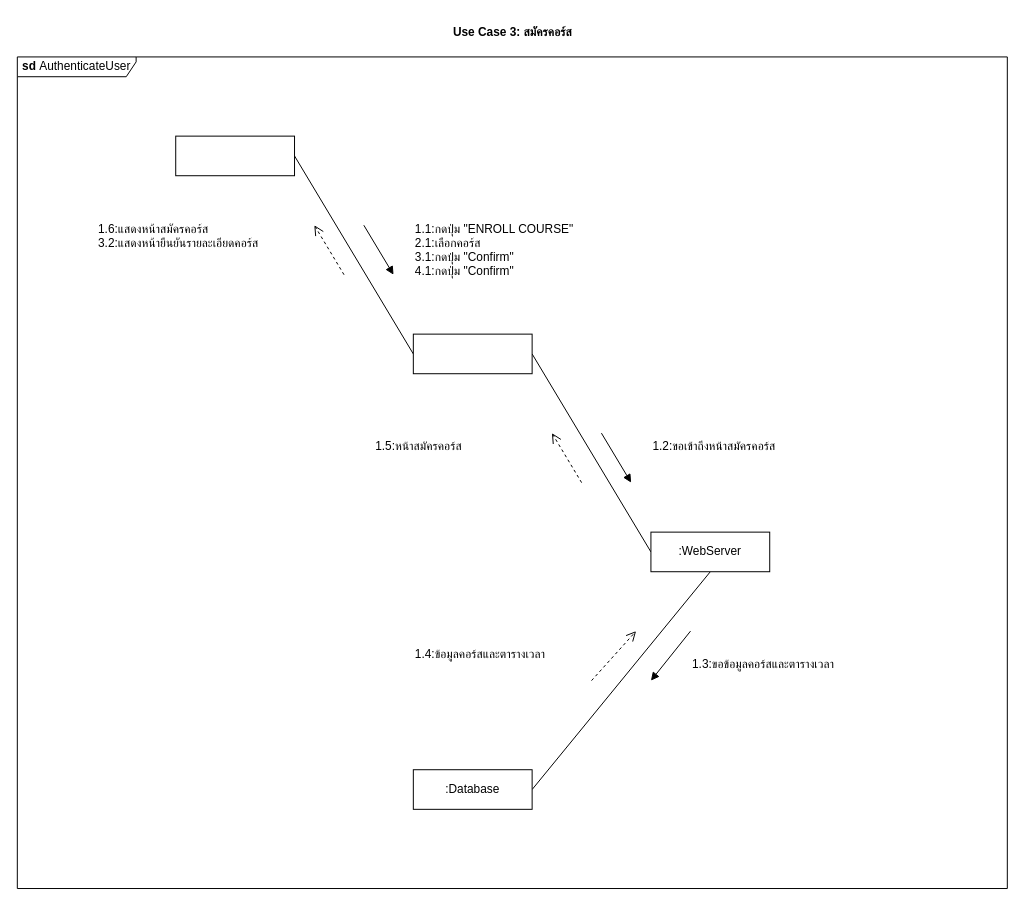
The diagram is 1025 pixels wide and 906 high, and some of its shapes have lost their labels. Each missing label, with the centre of its shape:
:WebBrowser: point 472,353
user:User: point 235,155
